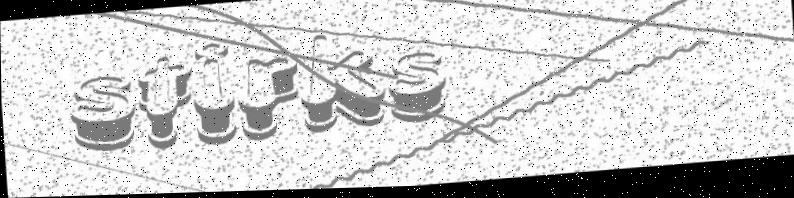i: (187, 40, 239, 149)
k: (298, 29, 385, 138)
r: (237, 53, 304, 148)
s: (64, 69, 141, 154), (386, 49, 450, 127)
t: (134, 53, 195, 152)
